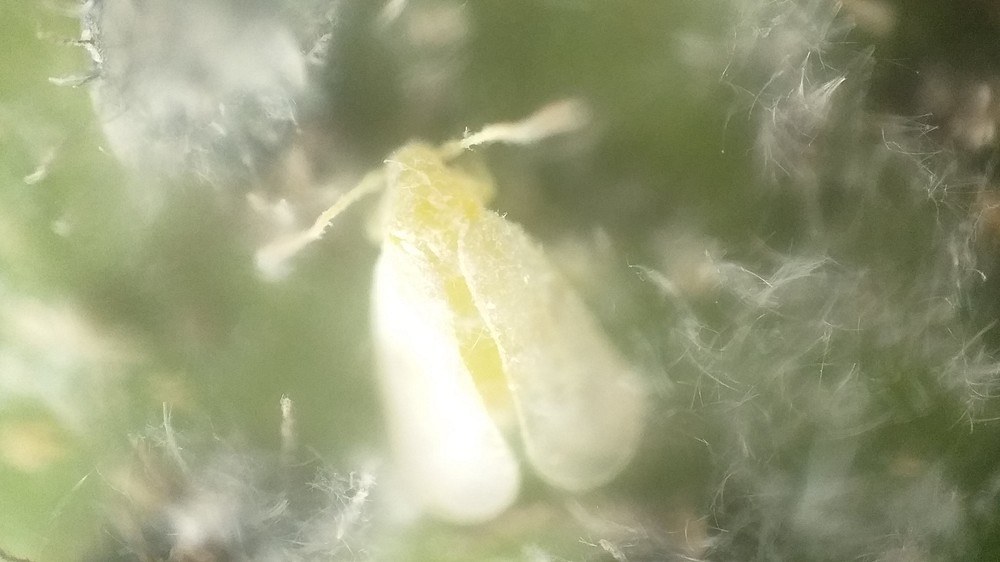Mosca Blanca: (254, 97, 671, 535)
